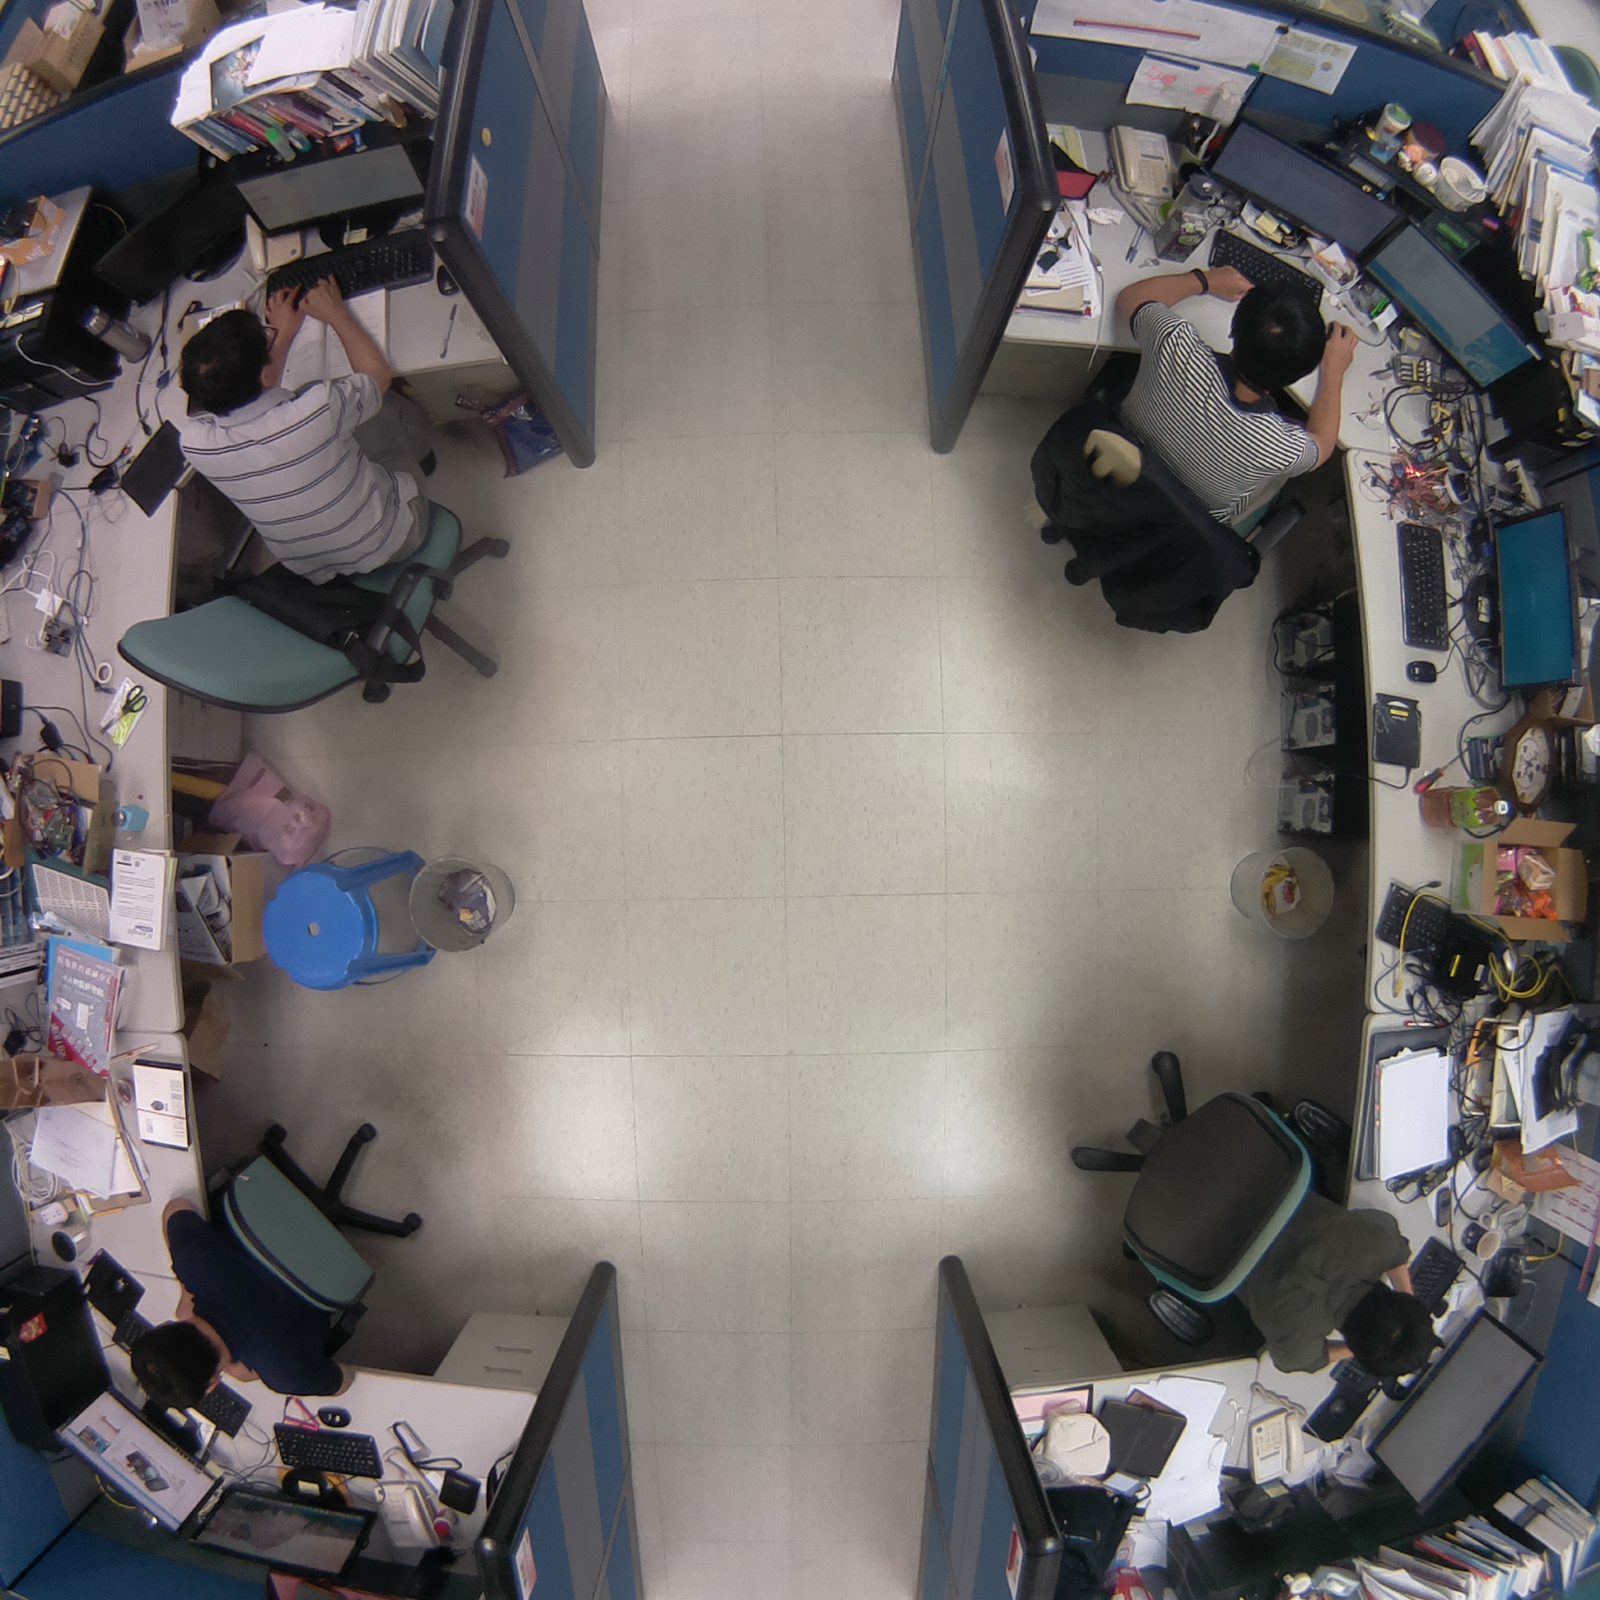head: (1222, 276, 1333, 388), (176, 303, 283, 411), (128, 1313, 228, 1413), (1339, 1284, 1441, 1382)
sitting: (101, 275, 524, 732), (1058, 1027, 1447, 1391), (1019, 240, 1363, 642), (119, 1091, 445, 1424)
